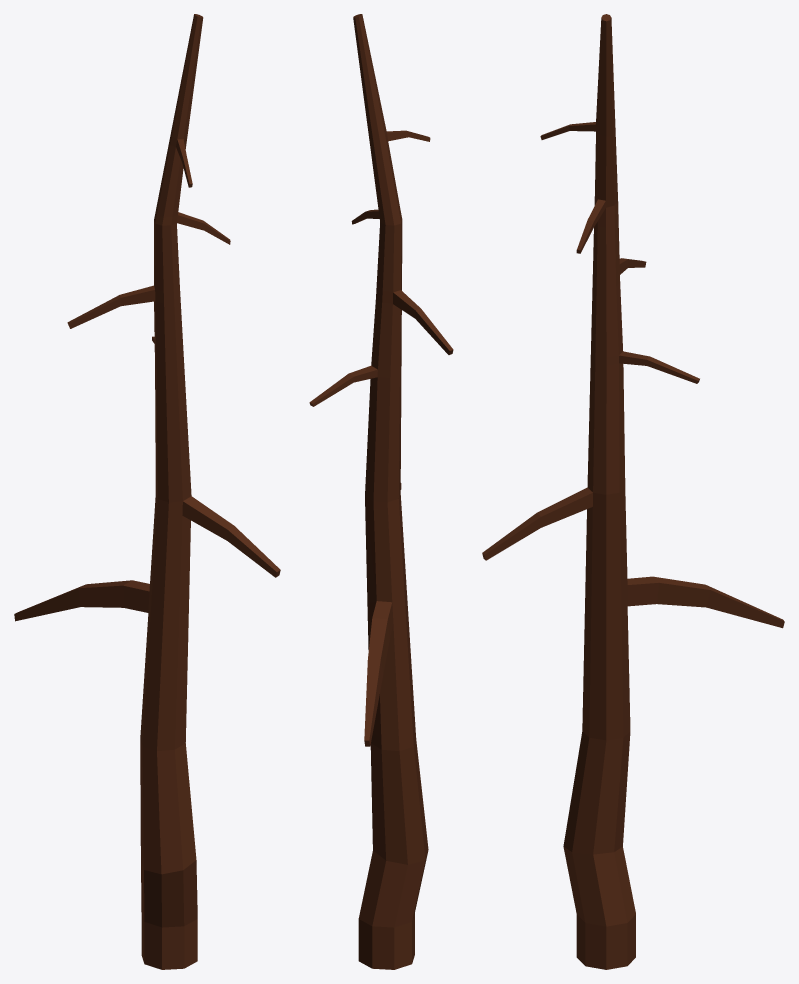
The model's file is netherlTree.fbx.
3 renders of one model, left to right at view 1: azimuth 30°, elevation 25°; view 2: azimuth 150°, elevation 25°; view 3: azimuth 270°, elevation 25°, orthographic. The views are drawn at different scales.
Visible parts, largest first — view 1: Cylinder.070; view 2: Cylinder.070; view 3: Cylinder.070.
Part boxes in pixels (x1,y1,x2,y2): Cylinder.070: [14, 14, 280, 969]; Cylinder.070: [309, 14, 453, 969]; Cylinder.070: [482, 14, 784, 969].
Bounding box in the file's own units: 537 × 3547 × 1018.
